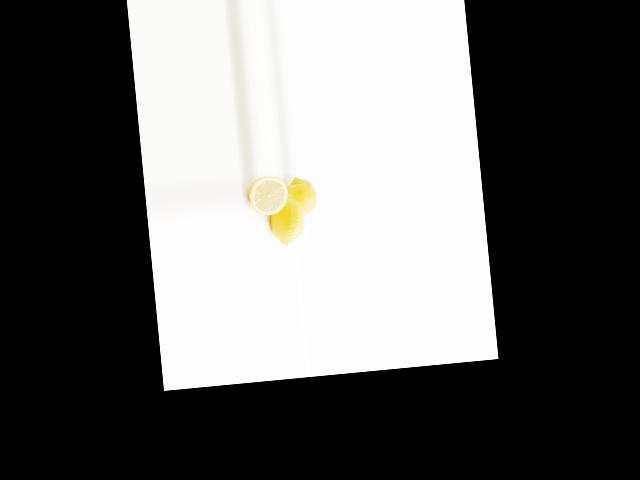lemon: (284, 173, 319, 218)
